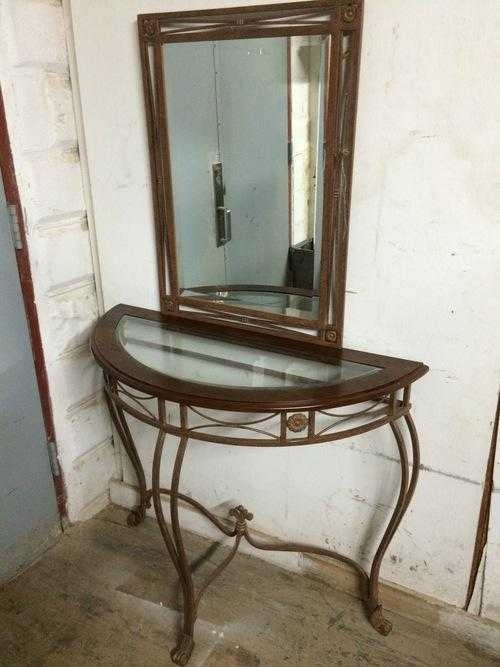obstacle: (91, 304, 427, 664)
